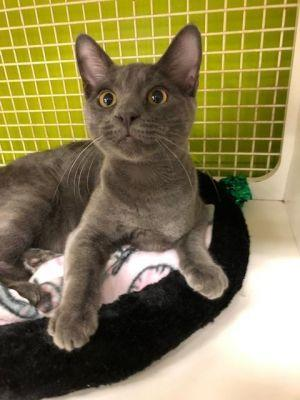rblue: (72, 19, 209, 169)
